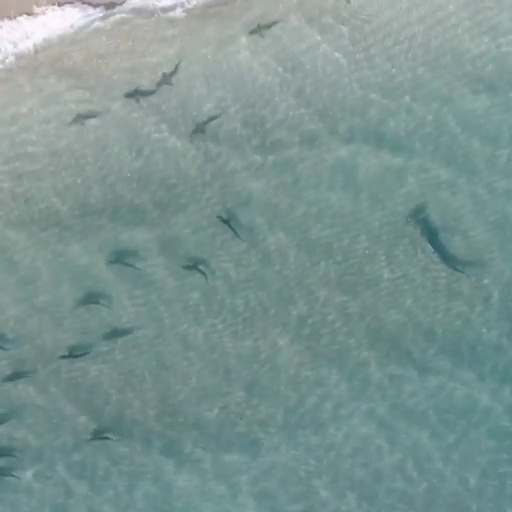shark: (403, 200, 470, 281)
